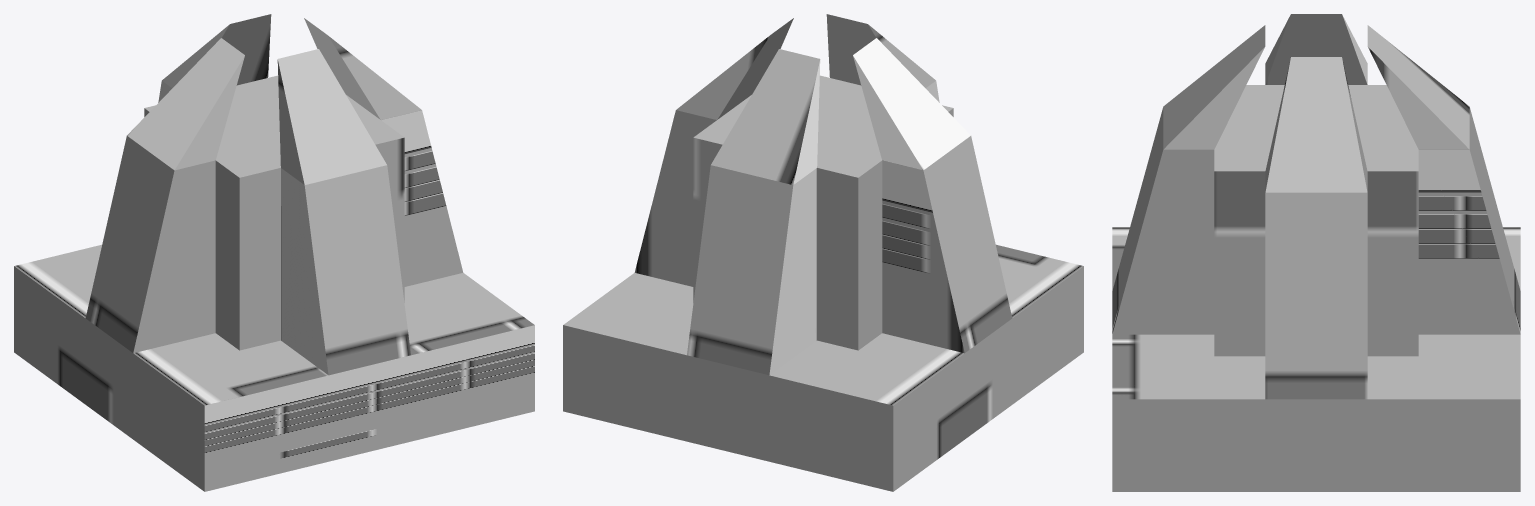
Rendered from essencePylon.obj.
The picture shows the model from 3 angles, left to right: view 1: azimuth 30°, elevation 25°; view 2: azimuth 150°, elevation 25°; view 3: azimuth 270°, elevation 25°; orthographic projection. The views are drawn at different scales.
Size of the model in its own units: 1 by 1 by 1.
